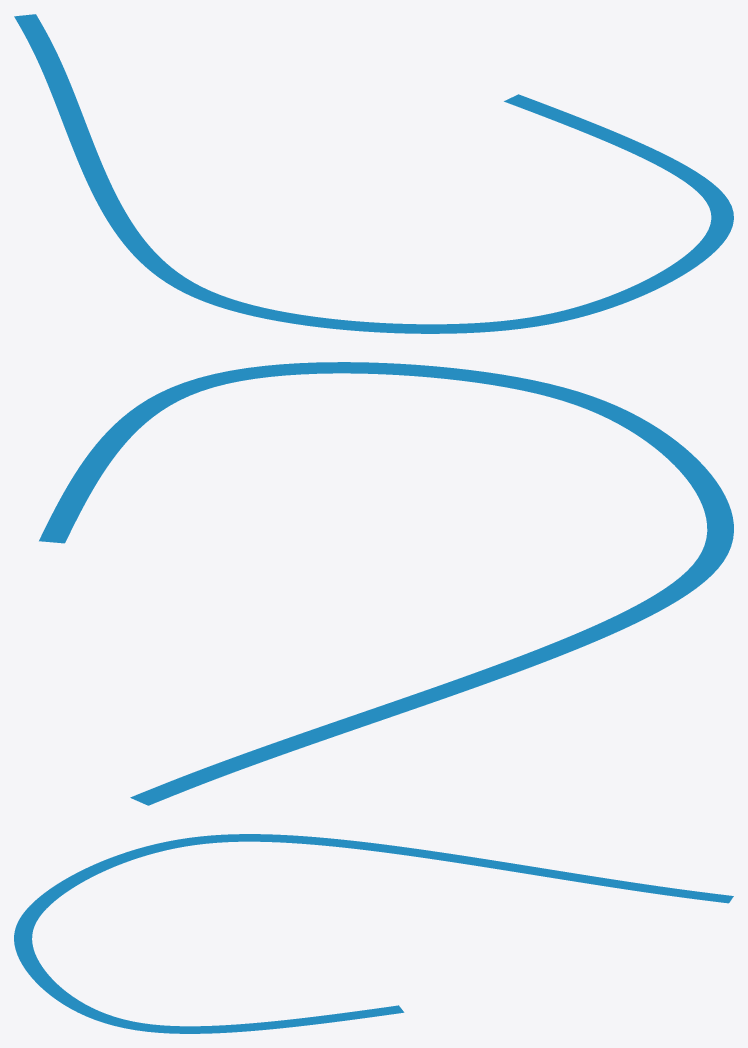
File: guide.glb
3 renders of one model, top to bottom at view 1: azimuth 30°, elevation 25°; view 2: azimuth 150°, elevation 25°; view 3: azimuth 270°, elevation 25°, orthographic. The views are drawn at different scales.
Parts seen in each view (by area): view 1: static; view 2: static; view 3: static.
Part boxes in pixels (x1,y1,x2,y2): static: (14,14,733,333); static: (39,362,733,805); static: (14,834,733,1033).
Size of the model in its own units: 8.36 by 0 by 12.72.
